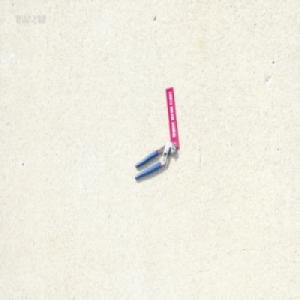Label: (165, 85, 179, 148)
Pliers: (134, 142, 176, 180)
